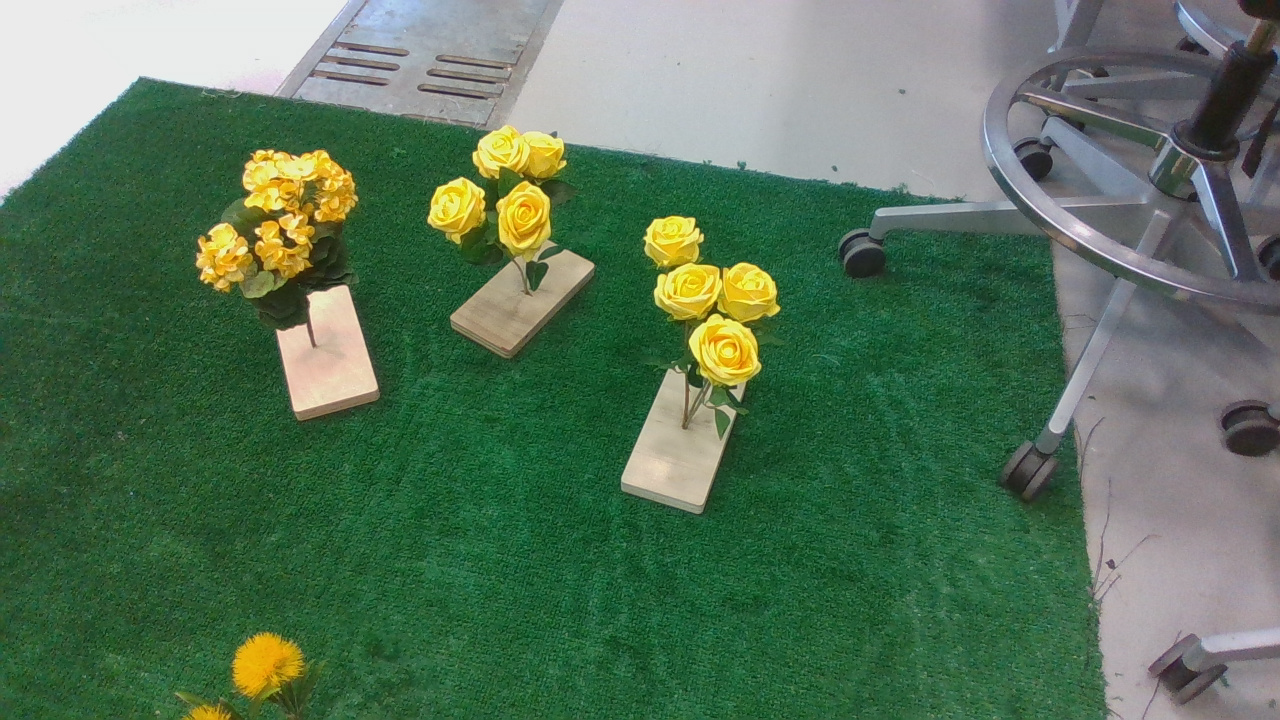geranium: (192, 149, 370, 375)
rose: (637, 210, 790, 444), (425, 127, 582, 296)
